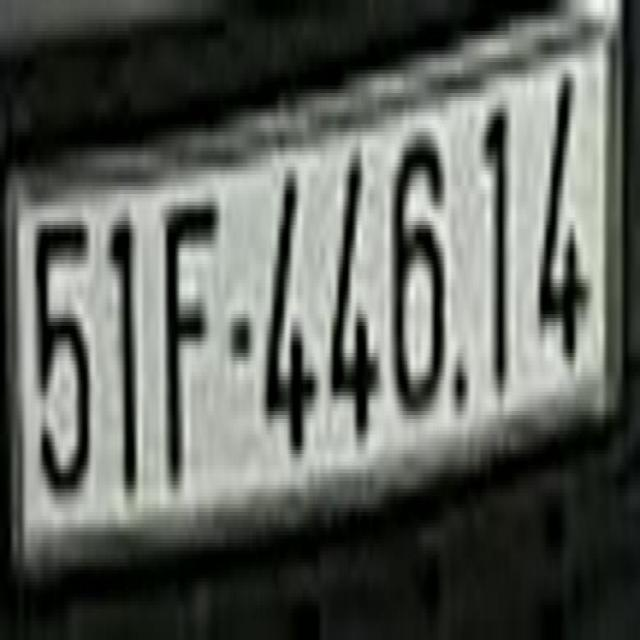1: (472, 90, 526, 434), (103, 178, 155, 512)
4: (532, 54, 592, 403), (328, 120, 378, 493), (262, 144, 315, 492)
5: (32, 170, 94, 528)
6: (389, 101, 447, 458)
F: (159, 155, 223, 508)
